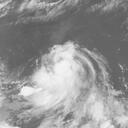cyclone: (25, 42, 96, 110)
